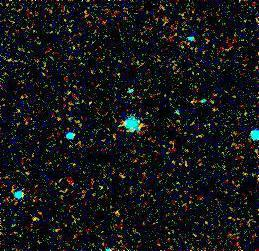star: (21, 204, 51, 234)
